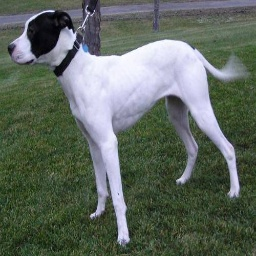dog: (8, 4, 244, 239)
